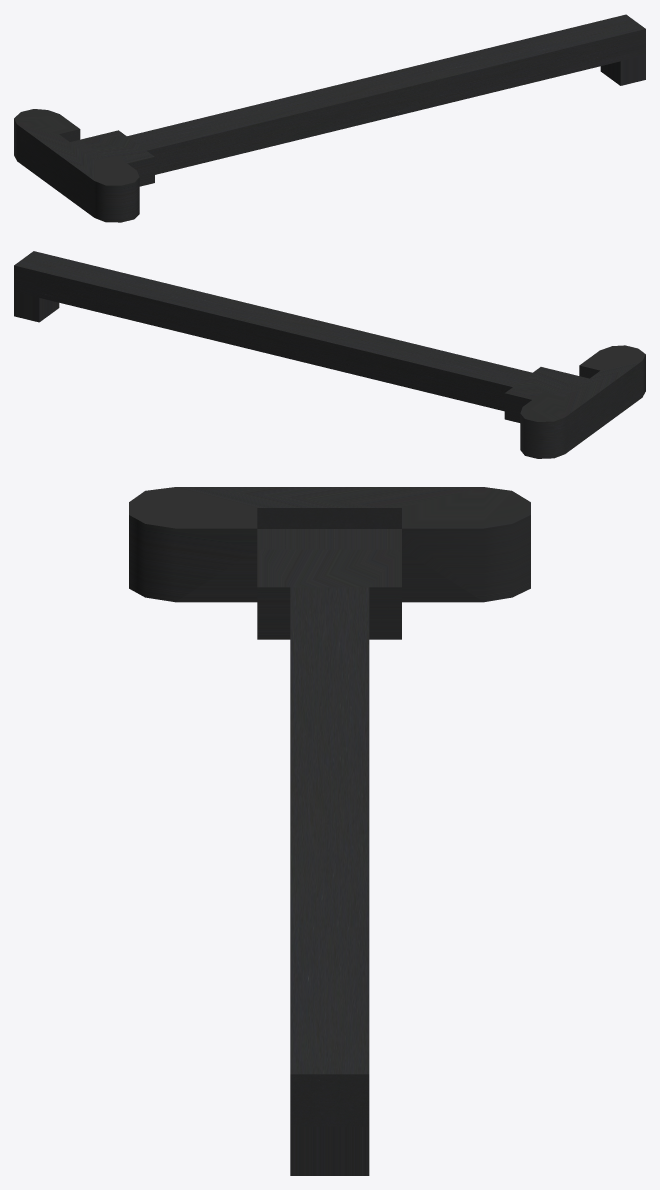
File: Charging_Handle.dae
The picture shows the model from 3 angles, top to bottom: view 1: azimuth 30°, elevation 25°; view 2: azimuth 150°, elevation 25°; view 3: azimuth 270°, elevation 25°; orthographic projection. The views are drawn at different scales.
Visible parts, largest first — view 1: Charging_Handle; view 2: Charging_Handle; view 3: Charging_Handle.
Part boxes in pixels (x1,y1,x2,y2): Charging_Handle: (14,14,645,222); Charging_Handle: (14,251,645,458); Charging_Handle: (129,487,530,1175).
Size of the model in its own units: 0.1695 by 0.0509 by 0.0172.
Materials: 1 (1 with a texture image).
